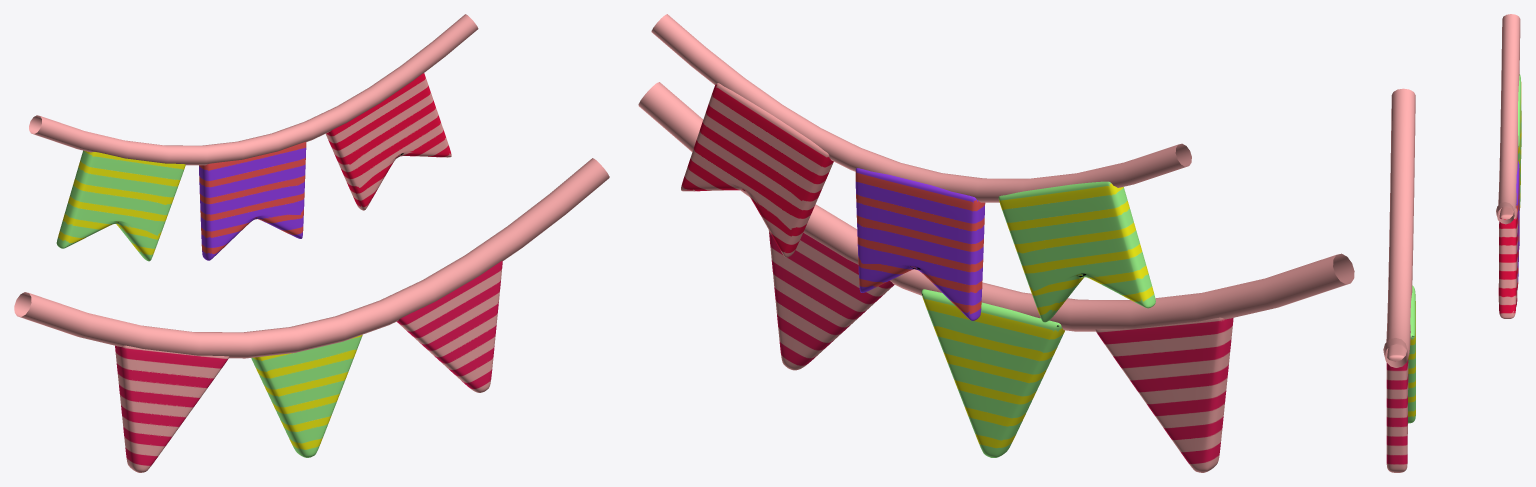
Rendered from 5. Garland.gltf.
3 views of the same model, side by side, from view 1: azimuth 30°, elevation 25°; view 2: azimuth 150°, elevation 25°; view 3: azimuth 270°, elevation 25° (orthographic). The views are drawn at different scales.
Visible parts, largest first — view 1: BezierCurve, BezierCurve.001, Cube.008, Cube.006, Cube.007, Cube.009, Cube.005, Cube.004; view 2: BezierCurve, Cube.008, Cube.006, Cube.009, Cube.004, Cube.007, BezierCurve.001, Cube.005; view 3: BezierCurve, BezierCurve.001, Cube.005, Cube.009, Cube.004, Cube.008, Cube.006.
Part boxes in pixels (<box>): BezierCurve: <box>14,158,609,358</box>; BezierCurve.001: <box>29,14,478,165</box>; Cube.008: <box>56,150,185,261</box>; Cube.006: <box>199,142,306,260</box>; Cube.007: <box>115,345,229,472</box>; Cube.009: <box>326,73,451,210</box>; Cube.005: <box>397,261,502,392</box>; Cube.004: <box>251,335,362,457</box>; BezierCurve: <box>638,82,1354,331</box>; Cube.008: <box>998,181,1155,322</box>; Cube.006: <box>855,168,985,320</box>; Cube.009: <box>681,83,833,257</box>; Cube.004: <box>921,289,1064,457</box>; Cube.007: <box>1095,317,1233,472</box>; BezierCurve.001: <box>651,14,1191,202</box>; Cube.005: <box>768,230,894,370</box>; BezierCurve: <box>1383,88,1415,367</box>; BezierCurve.001: <box>1496,14,1520,224</box>; Cube.005: <box>1386,344,1408,472</box>; Cube.009: <box>1498,207,1517,318</box>; Cube.004: <box>1408,285,1415,423</box>; Cube.008: <box>1518,74,1521,210</box>; Cube.006: <box>1516,161,1519,287</box>.
Bounding box in the file's own units: 1.84 × 1.04 × 0.4136.
Materials: 6 (5 with a texture image).
